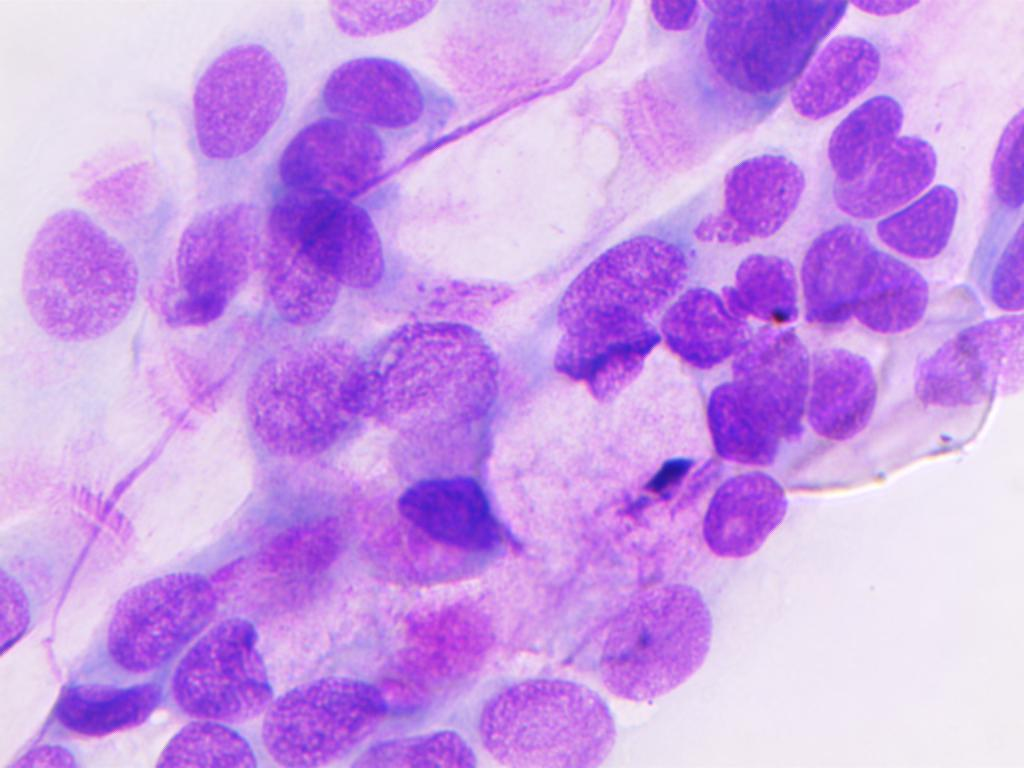artifact: (12, 194, 157, 348), (151, 723, 260, 768)
ciliated: (612, 0, 853, 193), (120, 243, 329, 457), (0, 482, 143, 666)
epithelial: (543, 224, 696, 358), (227, 318, 374, 456), (369, 299, 506, 443), (822, 82, 948, 220), (262, 170, 393, 302), (97, 549, 234, 668), (168, 20, 289, 154), (468, 668, 627, 764), (161, 200, 276, 332), (597, 580, 714, 701), (683, 139, 804, 253), (169, 618, 290, 730), (269, 98, 400, 200), (781, 20, 900, 130), (913, 316, 1024, 426), (310, 51, 455, 135), (701, 370, 802, 486), (387, 460, 511, 552), (261, 681, 391, 765), (789, 208, 872, 338), (694, 465, 800, 566), (801, 338, 890, 458), (663, 270, 756, 362), (876, 177, 964, 258), (316, 0, 462, 38), (988, 101, 1024, 218), (988, 220, 1024, 323), (636, 0, 712, 42)
goblet_cell: (549, 308, 702, 486)
